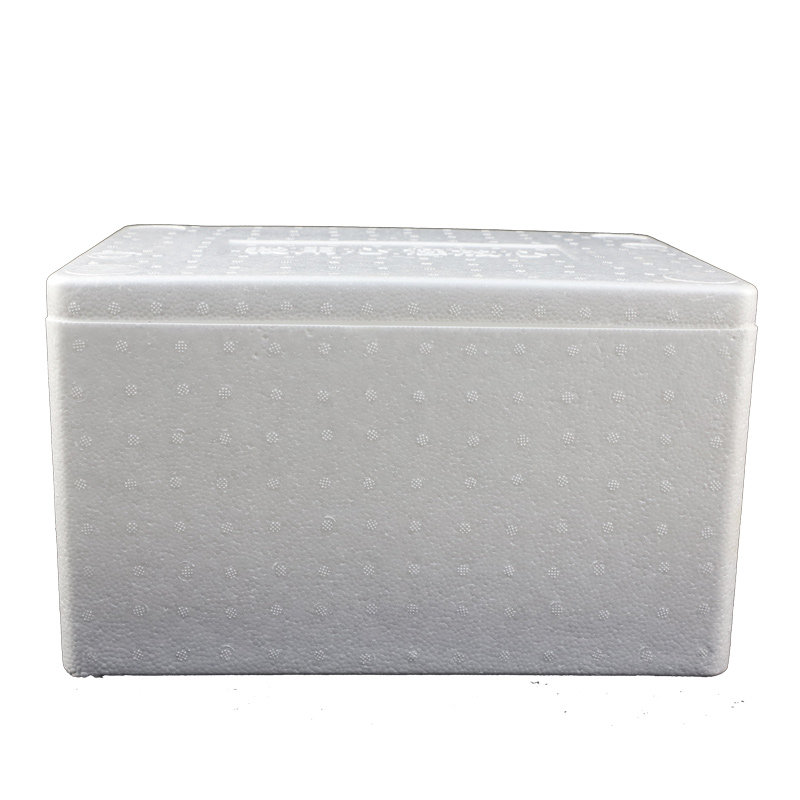Boxes: (47, 225, 756, 676)
